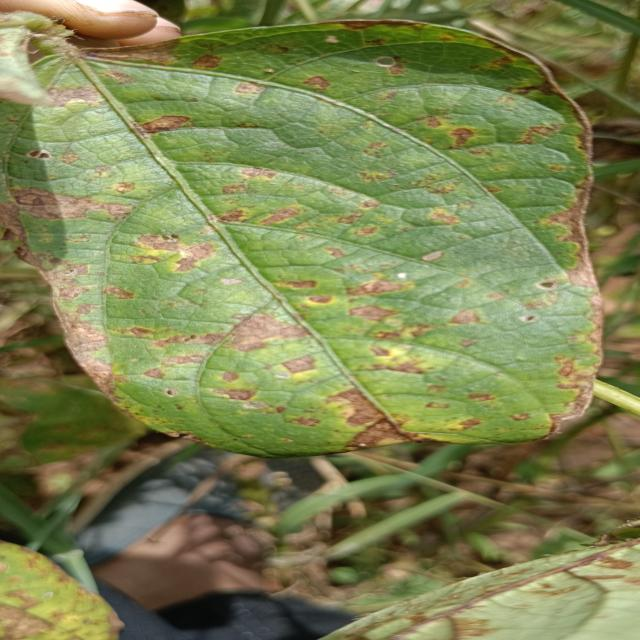Black gram_leaf spot: (0, 0, 612, 459)
